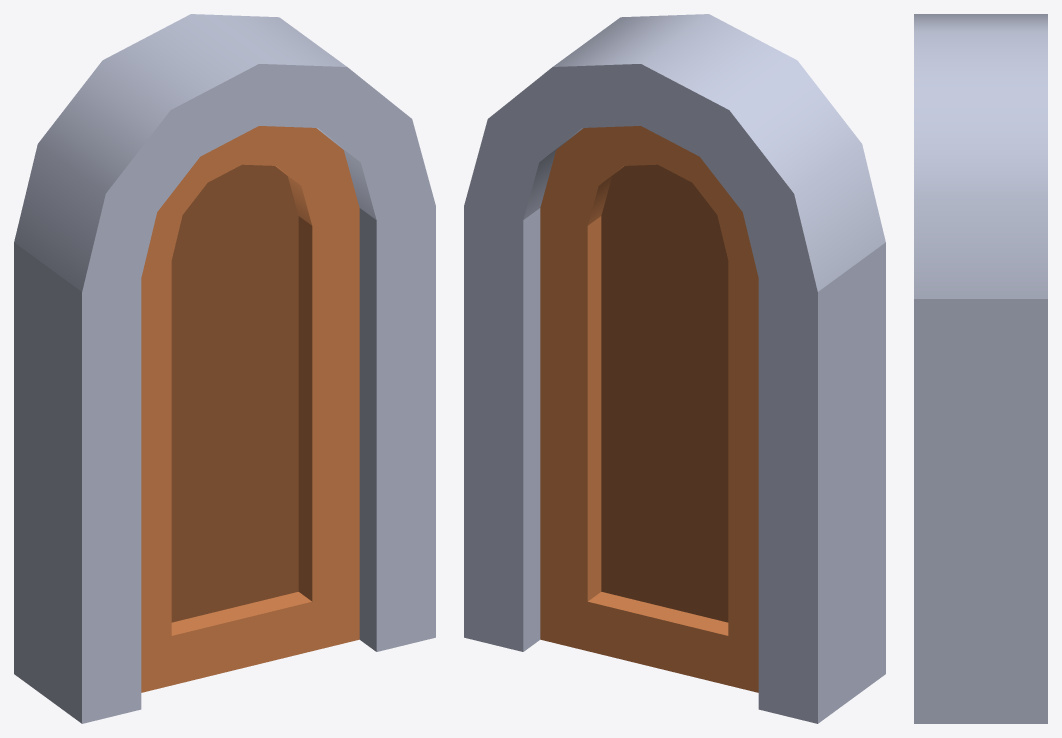
Rendered from doorClosed.glb.
3 renders of one model, left to right at view 1: azimuth 30°, elevation 25°; view 2: azimuth 150°, elevation 25°; view 3: azimuth 270°, elevation 25°, orthographic.
Parts seen in each view (by area): view 1: doorClosed; view 2: doorClosed; view 3: doorClosed.
Boxes of the visible parts, left/top/right/bottom form: doorClosed: left=14, top=14, right=435, bottom=723; doorClosed: left=464, top=14, right=885, bottom=723; doorClosed: left=914, top=14, right=1047, bottom=723.
Size of the model in its own units: 0.6 by 1 by 0.2.
